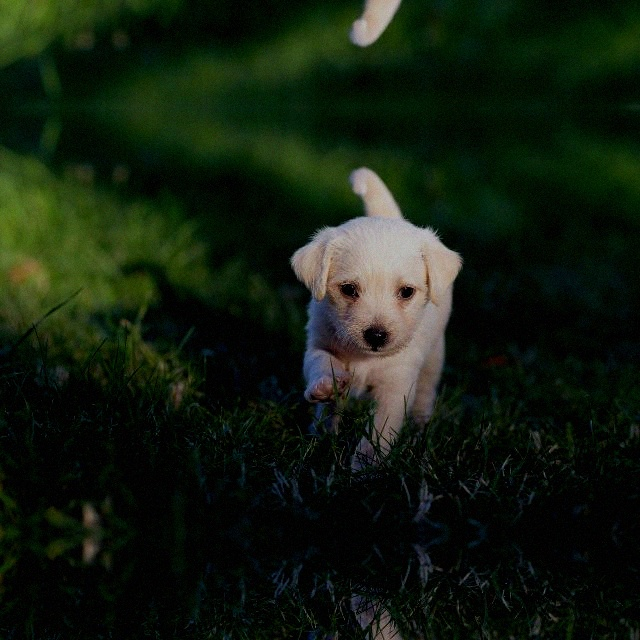dog: (298, 151, 464, 465), (298, 0, 464, 61), (298, 600, 464, 640)
